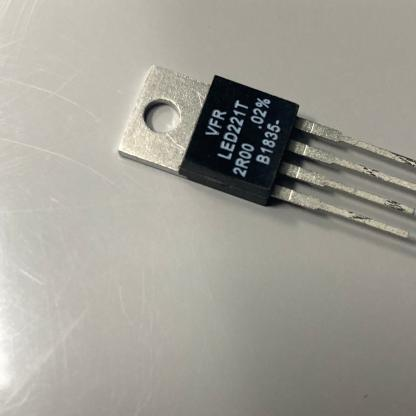SP0000012: (95, 33, 416, 296)
